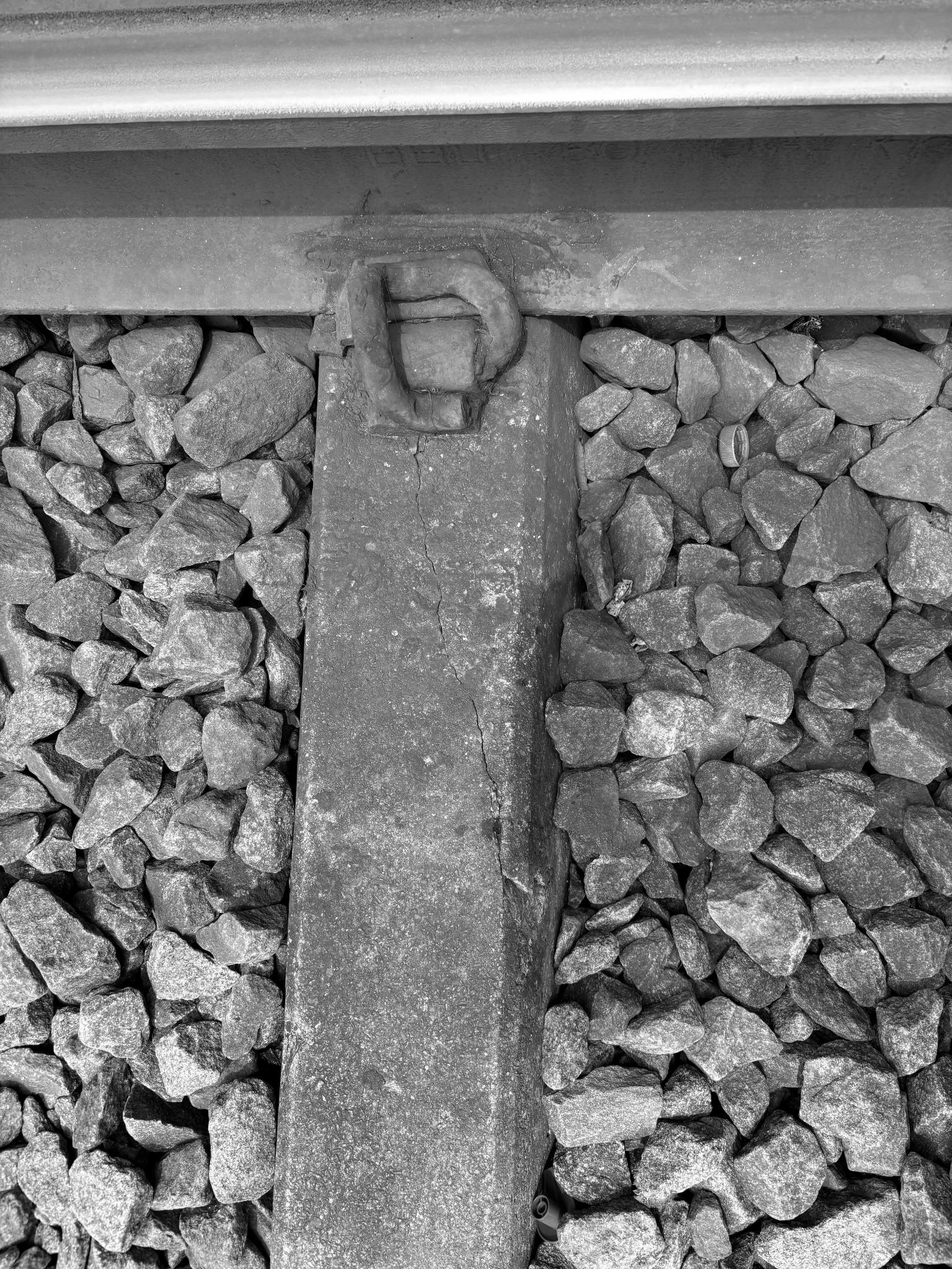cracks under rail seat: (373, 428, 581, 1012)
